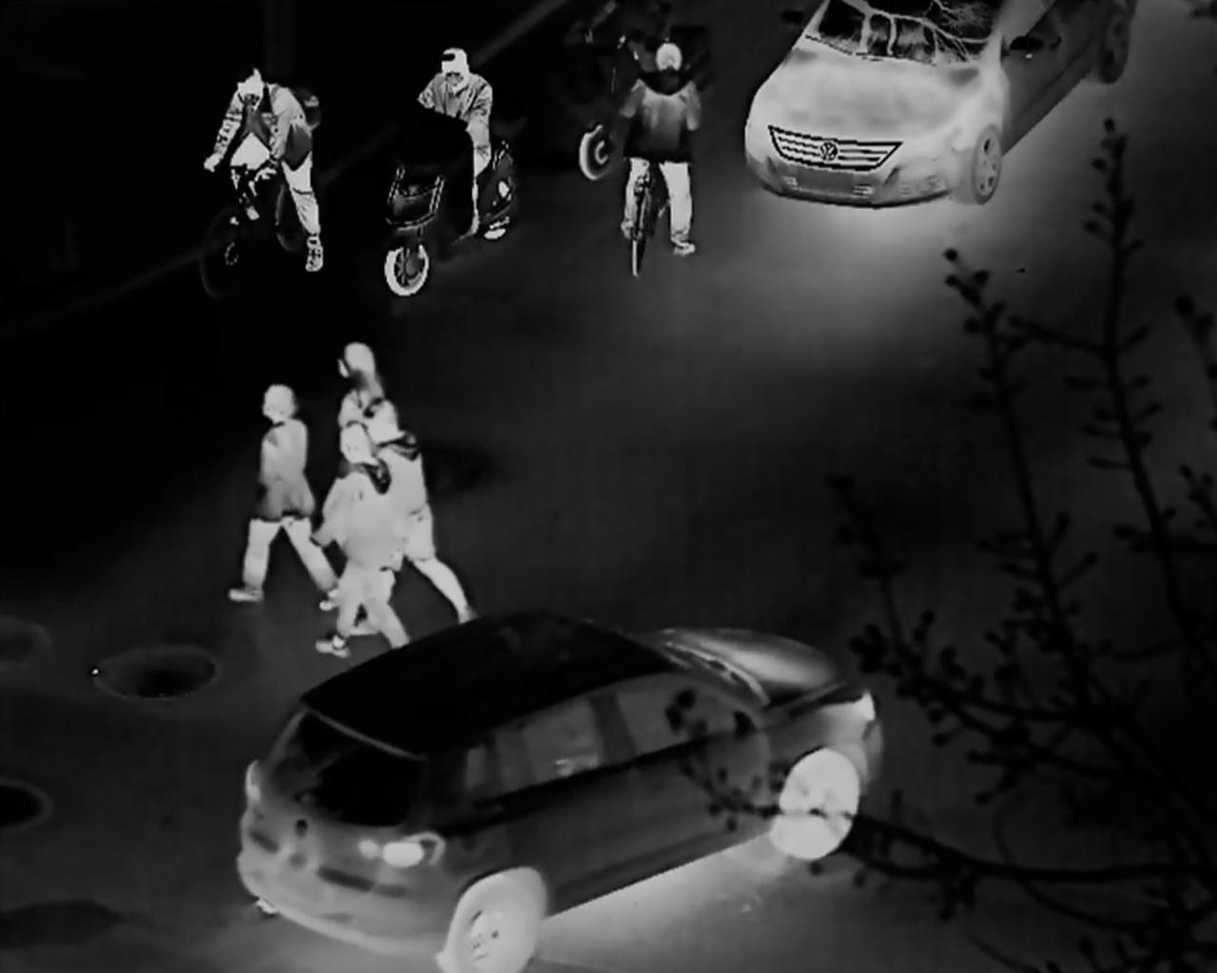person: (360, 395, 479, 627), (204, 66, 327, 275), (230, 380, 343, 605), (312, 422, 415, 660), (613, 40, 704, 257), (419, 47, 495, 239)
